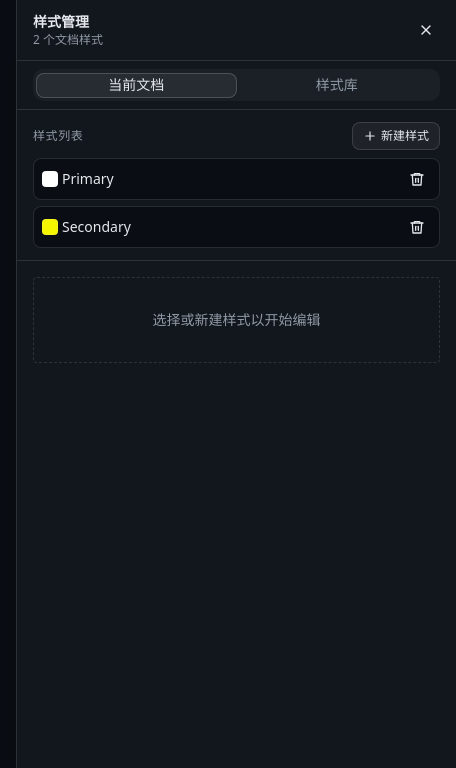
StyleManager library integration › persists library field edits immediately
Click the tab "样式库" at (337, 85), box [236,72,437,98]
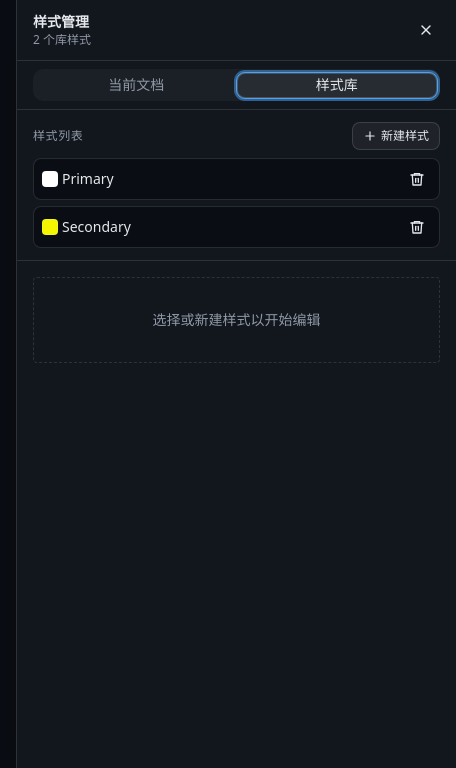
Click the button "Primary" at (88, 178), box [33,158,440,200]
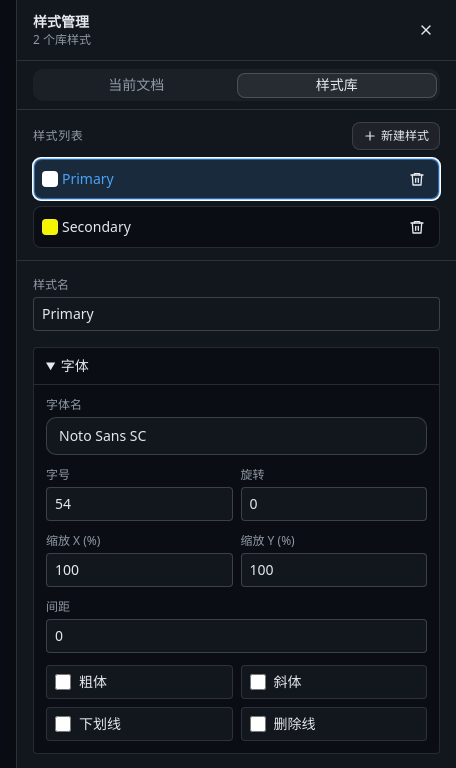
Replace the text in the number field showing "54" with "70" at (139, 504), box [46,487,232,521]
(page scrolled)
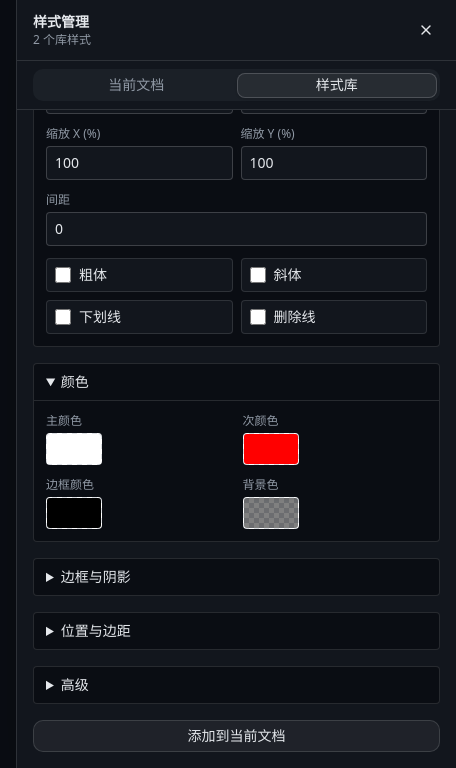
Expected: the button "添加到当前文档" is enabled, [33,720,440,752]
